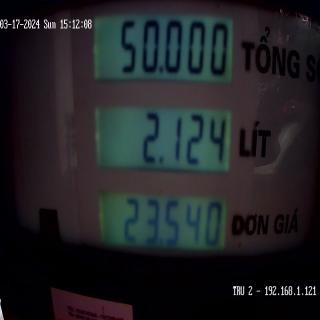screen: (90, 3, 238, 288)
